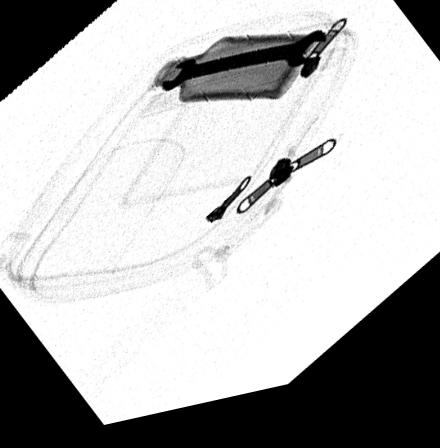Wrench: (159, 42, 327, 99)
